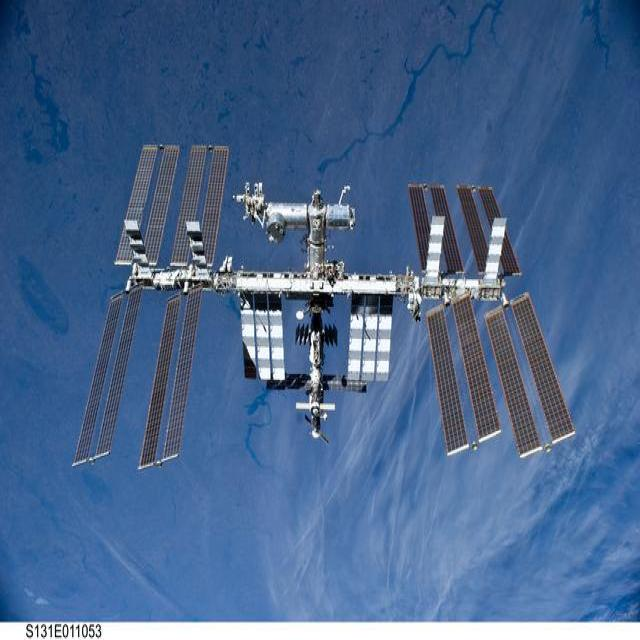satellite: (74, 144, 575, 468)
